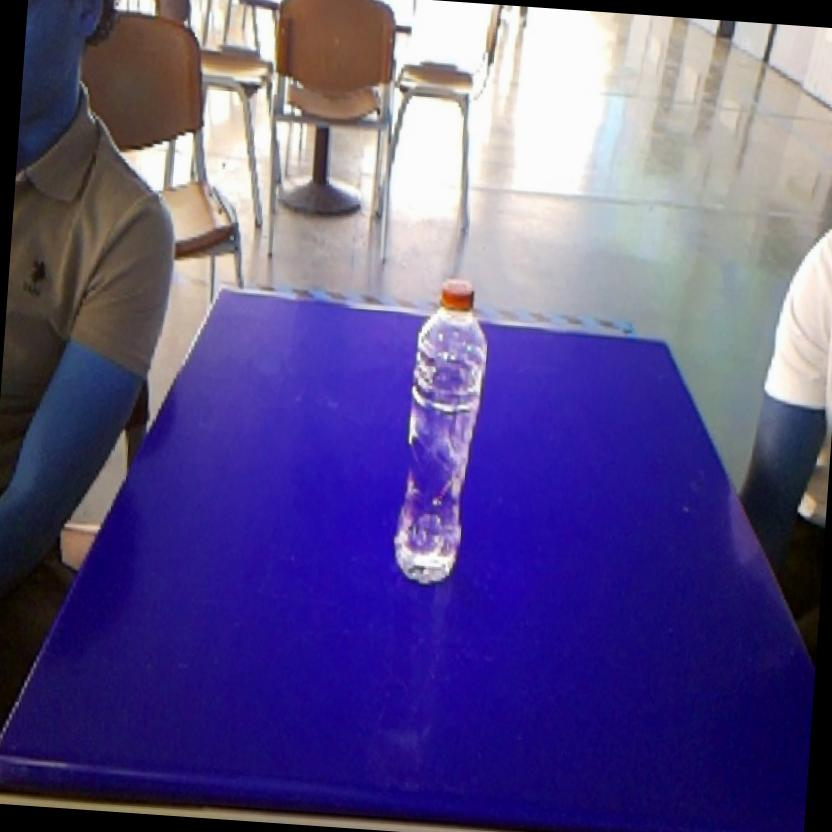no_label: (383, 265, 498, 592)
